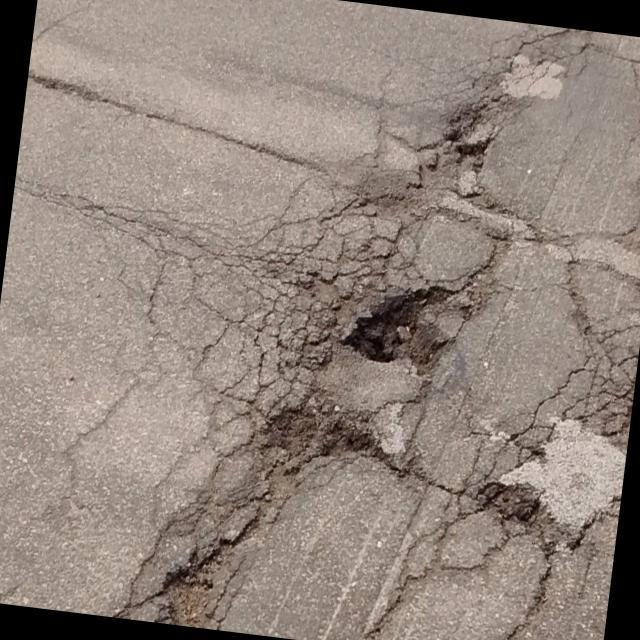Pothole: (340, 246, 470, 391), (467, 432, 592, 572), (250, 385, 382, 489), (159, 498, 241, 630), (432, 90, 511, 218)
